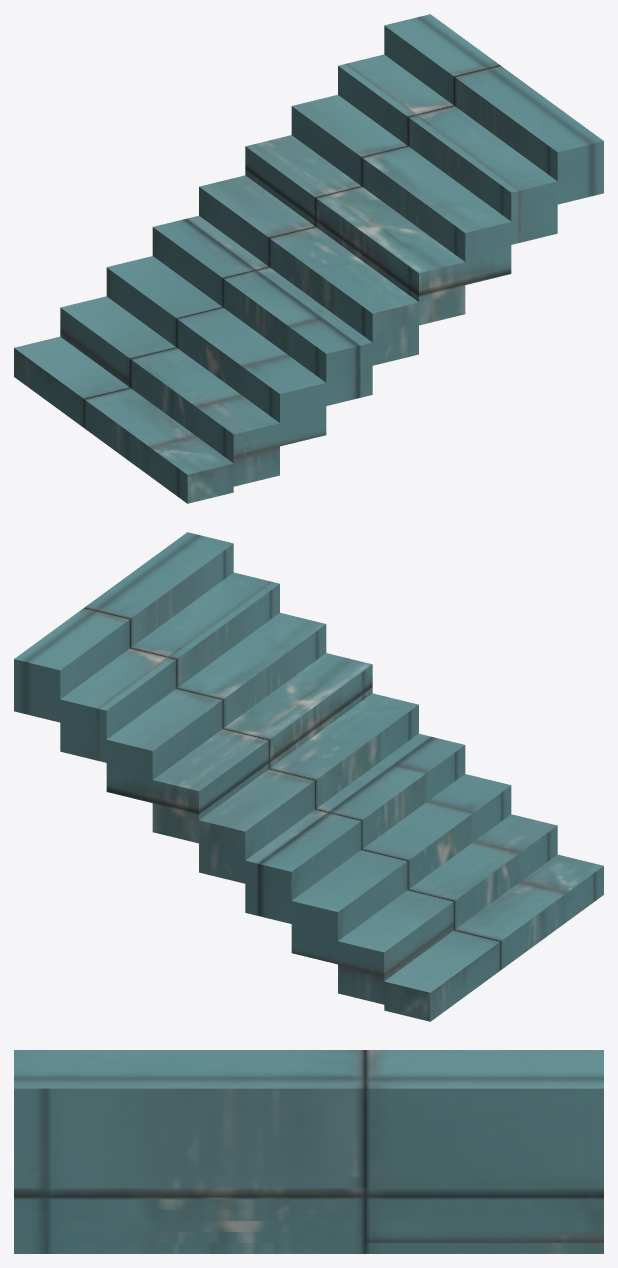
The model's file is brutalist-building-2-cbake.s1.stairs.glb.
3 renders of one model, top to bottom at view 1: azimuth 30°, elevation 25°; view 2: azimuth 150°, elevation 25°; view 3: azimuth 270°, elevation 25°, orthographic. The views are drawn at different scales.
Visible parts, largest first — view 1: stairs; view 2: stairs; view 3: stairs.
Boxes of the visible parts, x1,y1,x2,y2 form: stairs: [14, 14, 603, 503]; stairs: [14, 532, 603, 1021]; stairs: [14, 1050, 603, 1253].
Bounding box in the file's own units: 2.5 × 1.5 × 1.81.
1 material, 1 textured.
